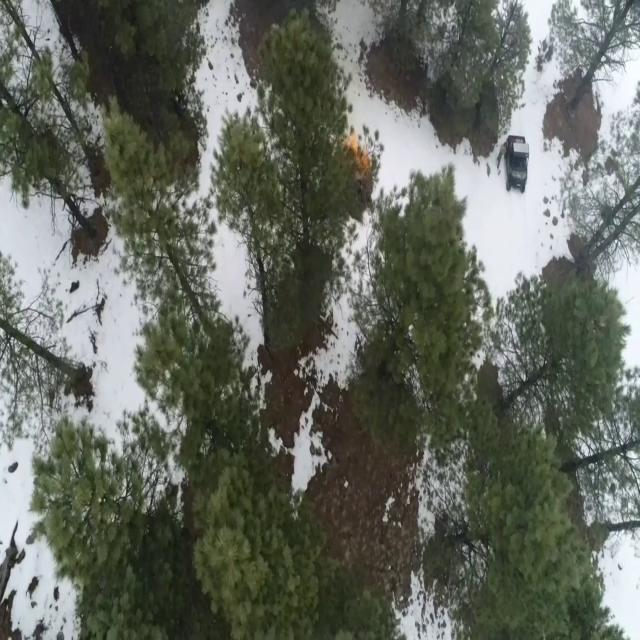fire: (342, 135, 370, 171)
